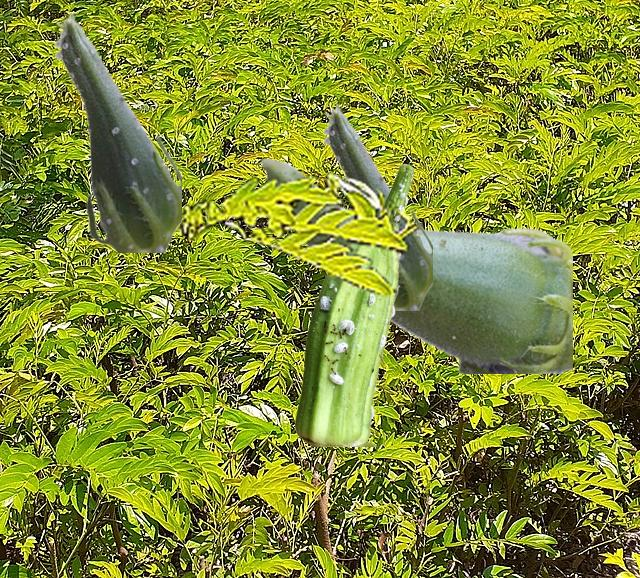okra: (260, 157, 571, 372), (295, 164, 413, 445), (53, 11, 180, 251), (322, 103, 431, 309)
